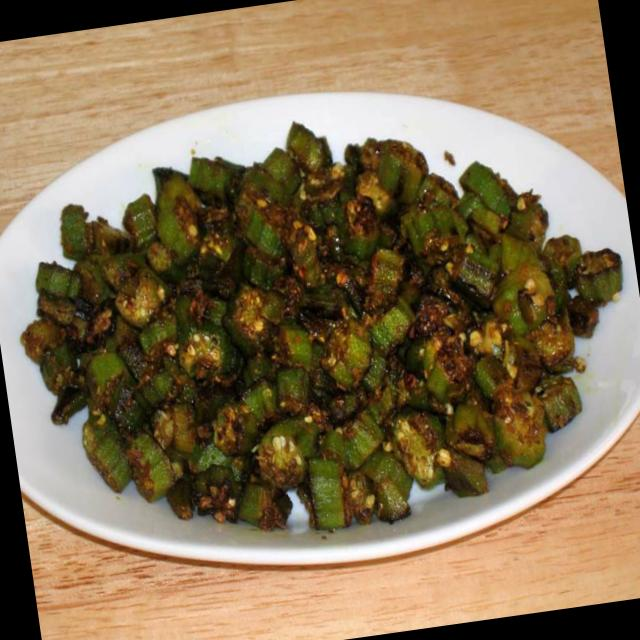BhindiMasala: (0, 79, 640, 569)
